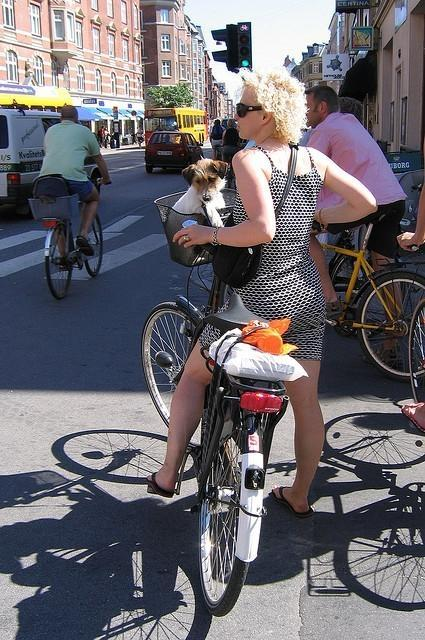bicycle: (141, 245, 291, 626), (320, 212, 425, 386), (41, 214, 107, 306), (406, 298, 425, 404)
bus: (1, 108, 62, 225), (144, 106, 210, 146), (1, 80, 73, 108)
car: (146, 130, 204, 173)
